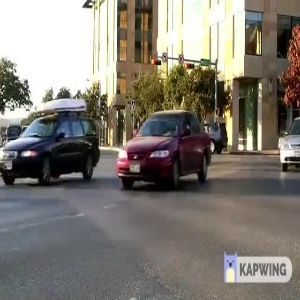car: (2, 92, 103, 181), (117, 107, 215, 193)
